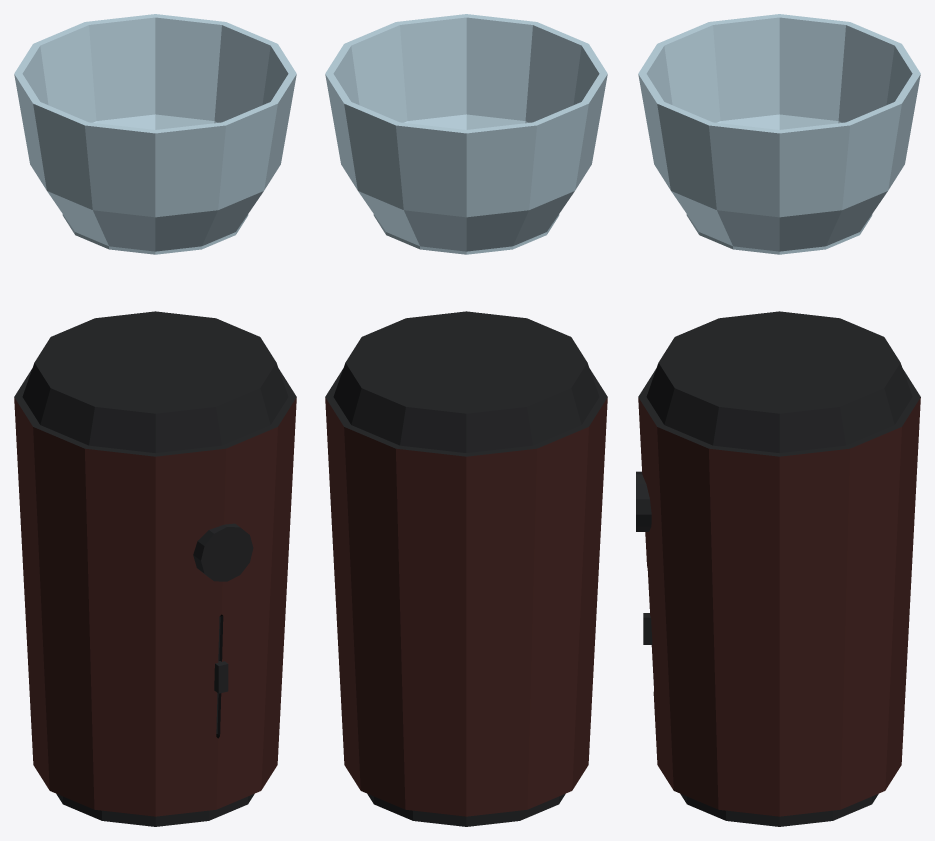
File: coffeegrinders_01_C.gltf
3 views of the same model, side by side, from view 1: azimuth 30°, elevation 25°; view 2: azimuth 150°, elevation 25°; view 3: azimuth 270°, elevation 25° (orthographic).
Visible parts, largest first — view 1: coffeegrinders_01_C, Glassforcoffeegrinders_01_C, Switchforcoffeegrinders_02_C; view 2: coffeegrinders_01_C, Glassforcoffeegrinders_01_C; view 3: coffeegrinders_01_C, Glassforcoffeegrinders_01_C, Switchforcoffeegrinders_02_C.
Part boxes in pixels (x1,y1,x2,y2): coffeegrinders_01_C: (14, 311, 296, 826); Glassforcoffeegrinders_01_C: (14, 14, 296, 254); Switchforcoffeegrinders_02_C: (193, 523, 253, 581); coffeegrinders_01_C: (325, 311, 607, 826); Glassforcoffeegrinders_01_C: (325, 14, 607, 254); coffeegrinders_01_C: (638, 311, 920, 826); Glassforcoffeegrinders_01_C: (638, 14, 920, 254); Switchforcoffeegrinders_02_C: (636, 471, 651, 531).
Bounding box in the file's own units: 0.1444 × 0.3991 × 0.1455.
Materials: 1 (1 with a texture image).
